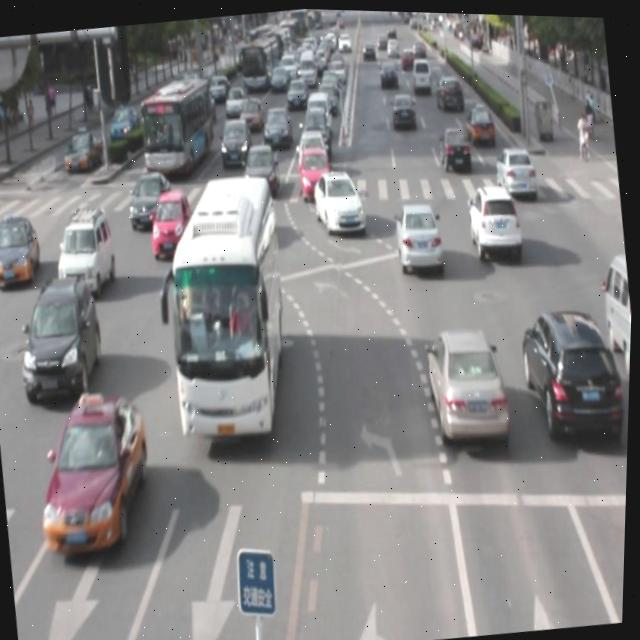car: (30, 387, 162, 560), (517, 296, 628, 444), (12, 269, 112, 405), (423, 318, 513, 440), (52, 202, 122, 294), (465, 177, 524, 257), (390, 195, 446, 273), (311, 169, 367, 239), (147, 186, 196, 261), (127, 169, 175, 231), (491, 139, 538, 197)
truck: (595, 244, 635, 370)
van: (153, 170, 301, 442)
